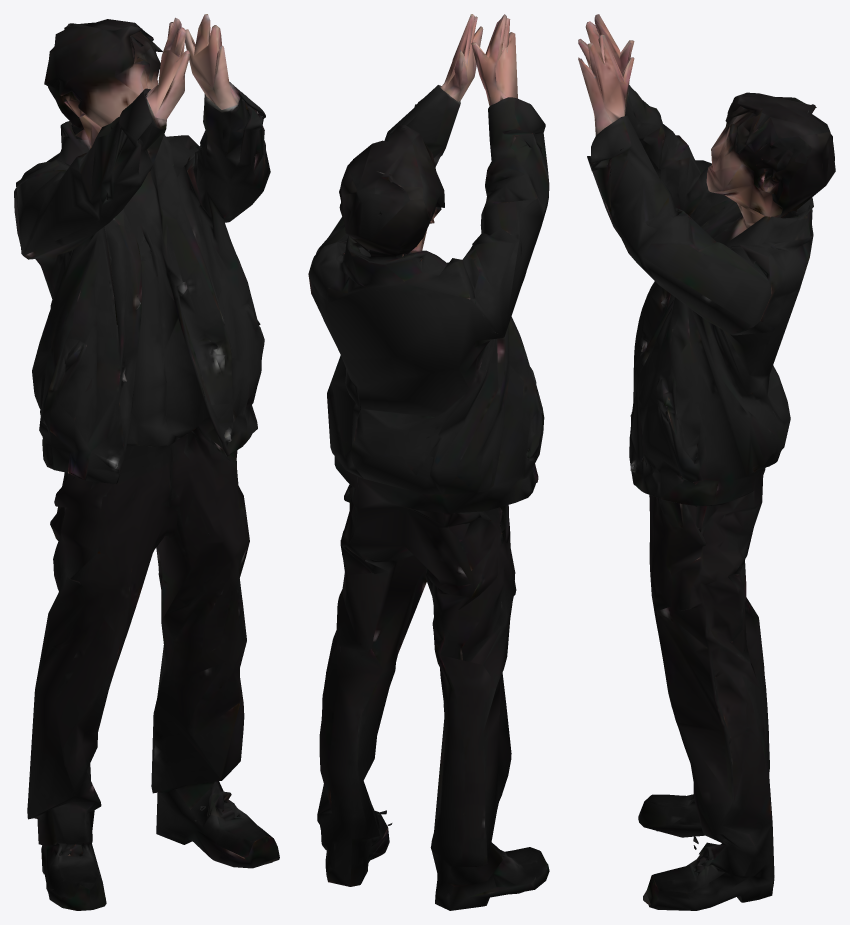
File: fan-side-s2-lo.glb
3 renders of one model, left to right at view 1: azimuth 30°, elevation 25°; view 2: azimuth 150°, elevation 25°; view 3: azimuth 270°, elevation 25°, orthographic. The views are drawn at different scales.
Parts seen in each view (by area): view 1: geometry_0; view 2: geometry_0; view 3: geometry_0.
Part boxes in pixels (x1=…): geometry_0: x1=14, y1=14, x2=279, y2=910; geometry_0: x1=308, y1=14, x2=549, y2=910; geometry_0: x1=578, y1=14, x2=835, y2=910.
Bounding box in the file's own units: 0.2569 × 1 × 0.279.
1 material, 1 textured.
